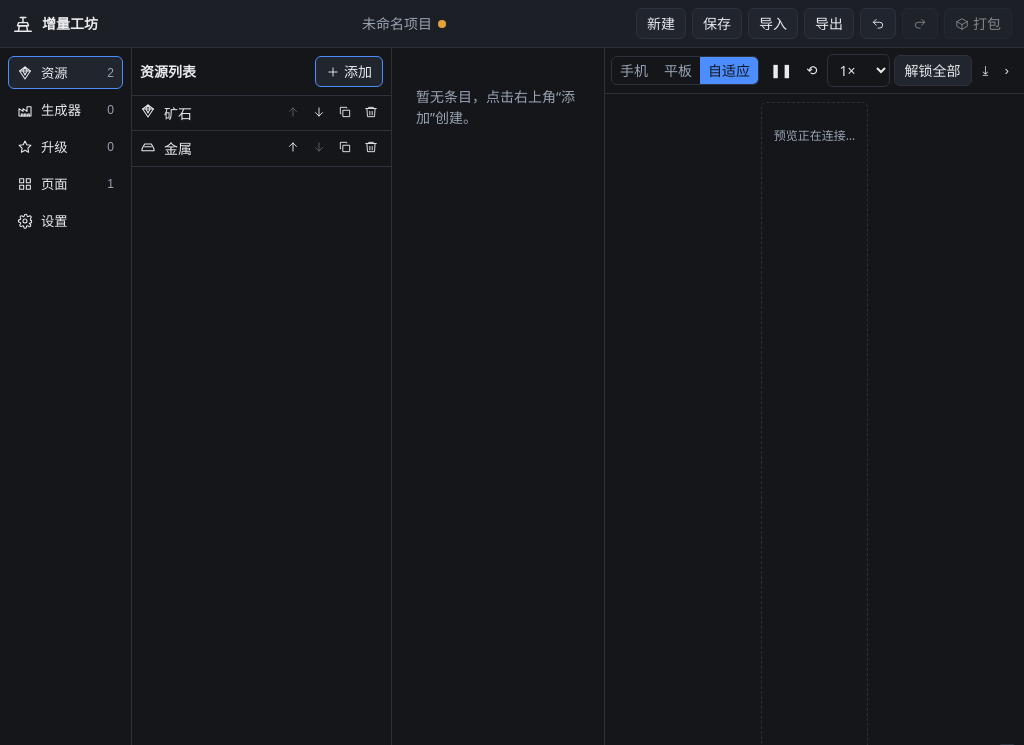
Test: 表达式字段（7.6 NumExprField、5.8、17.1） › 数量上限字段提供数值/表达式双模式（7.6 末条）
Step 1. Click the option with test id "entry-r1" → (262, 114), box [132, 96, 391, 131]
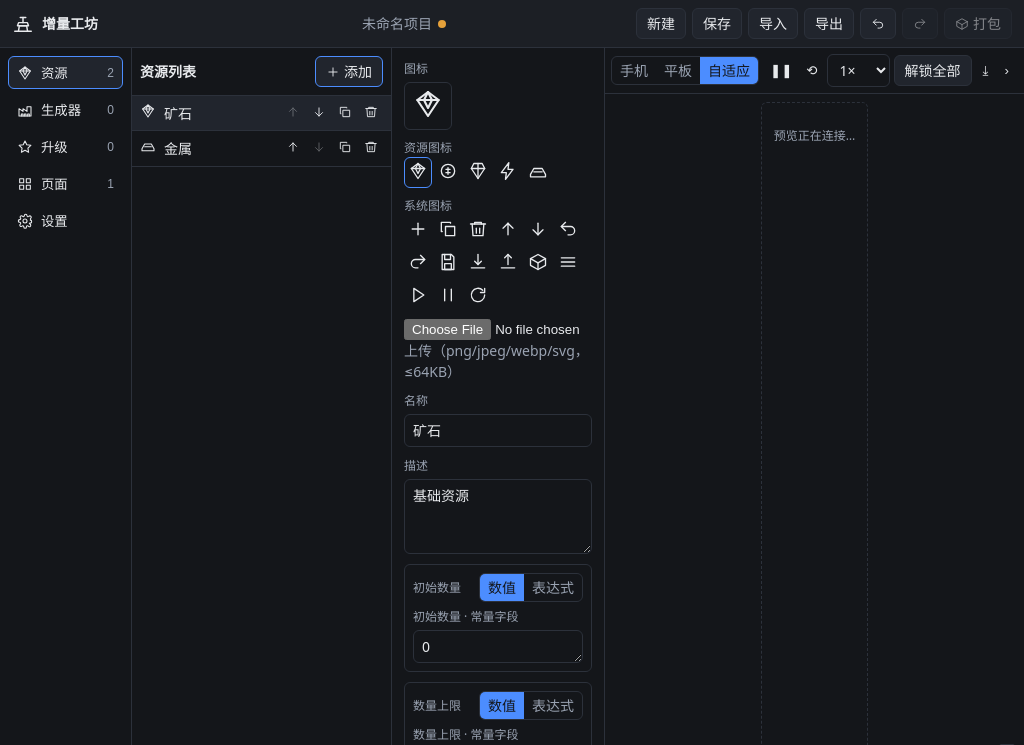
Now the 2nd button "数值" is shown, box [480, 692, 524, 719]
Now the 2nd button "表达式" is shown, box [524, 692, 582, 719]
